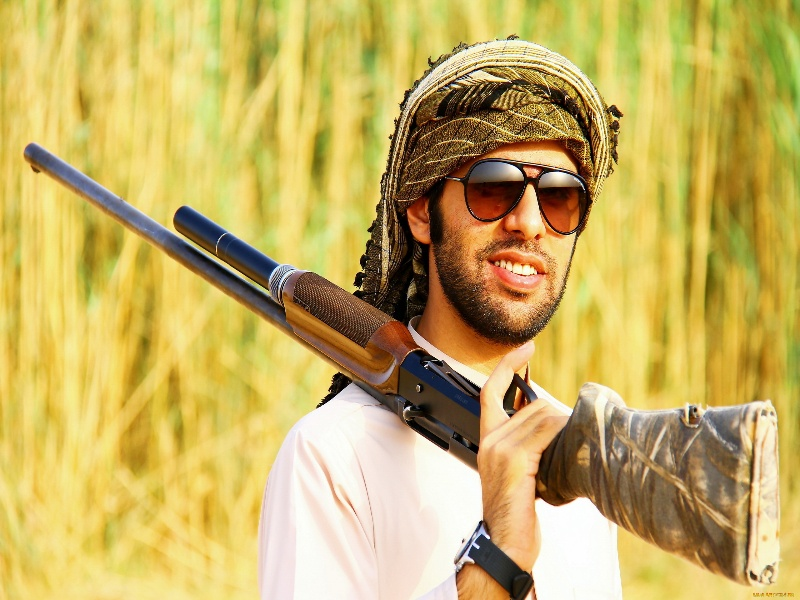person: (257, 37, 621, 600)
weapon: (24, 143, 780, 586)
